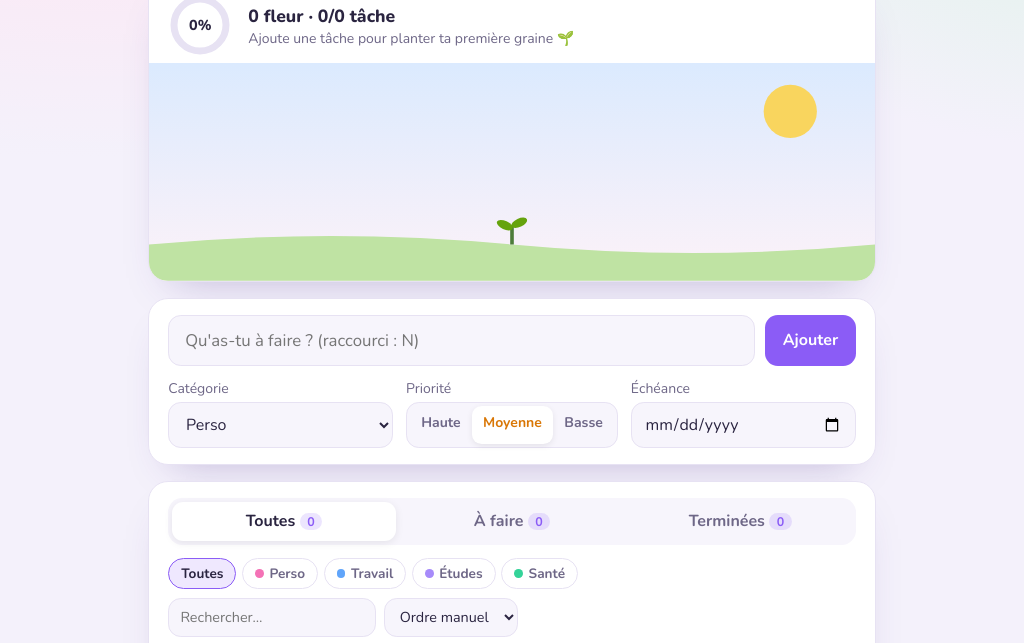
Test case: Bloom app › edits a task
Type "Ancien titre" into the field named "Nouvelle tâche" at (462, 340), box [168,315,756,366]
Then press Enter
(page scrolled)
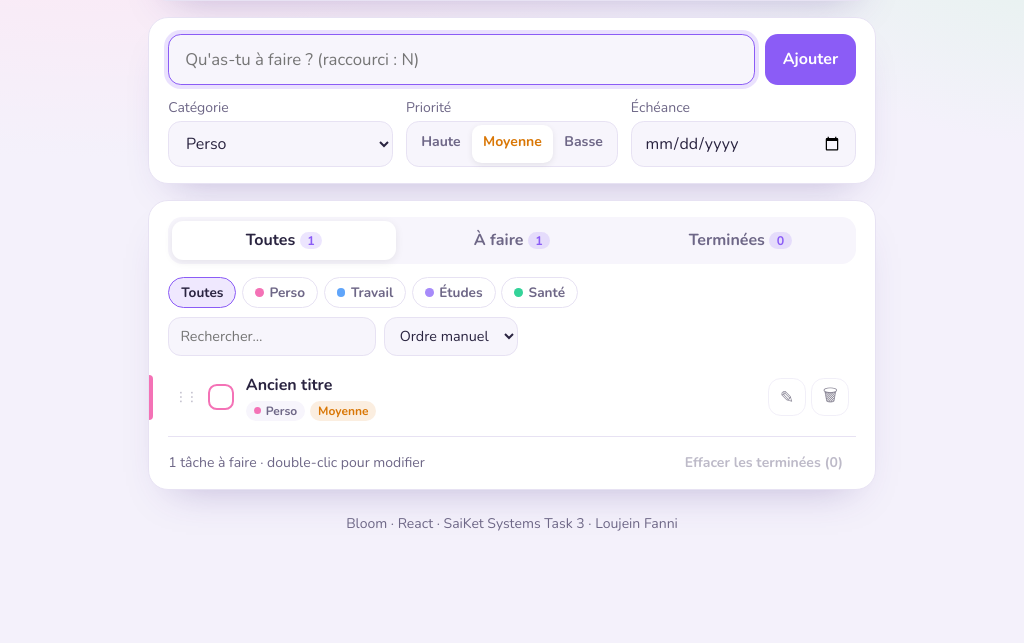
Click the button named "Modifier « Ancien titre »" at (787, 397), box [768,378,806,416]
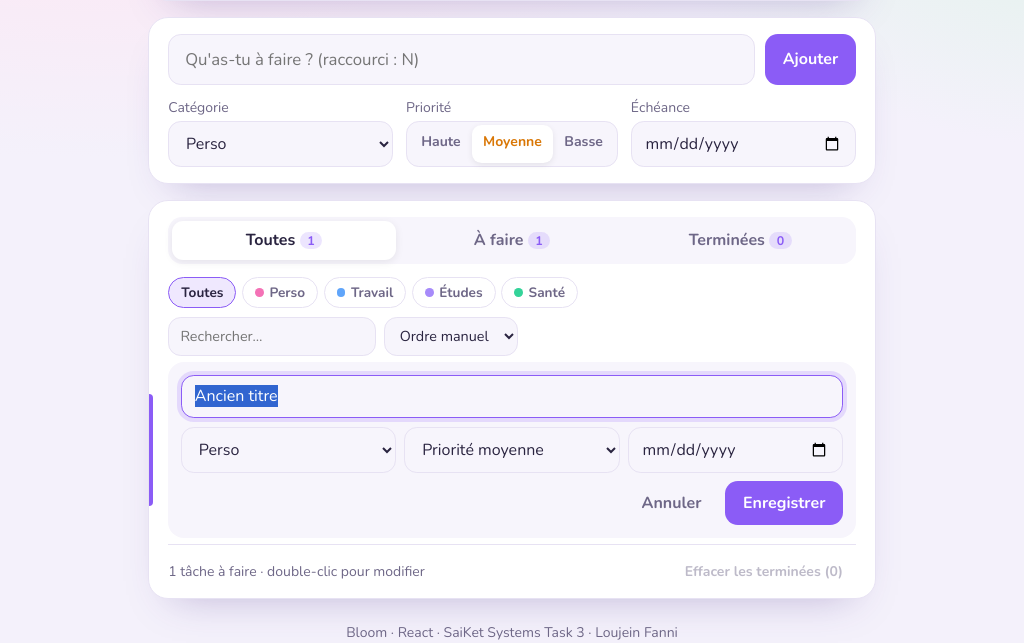
Replace the text in the field named "Modifier la tâche" with "Nouveau titre" at (512, 396), box [181,375,843,418]
Then press Enter
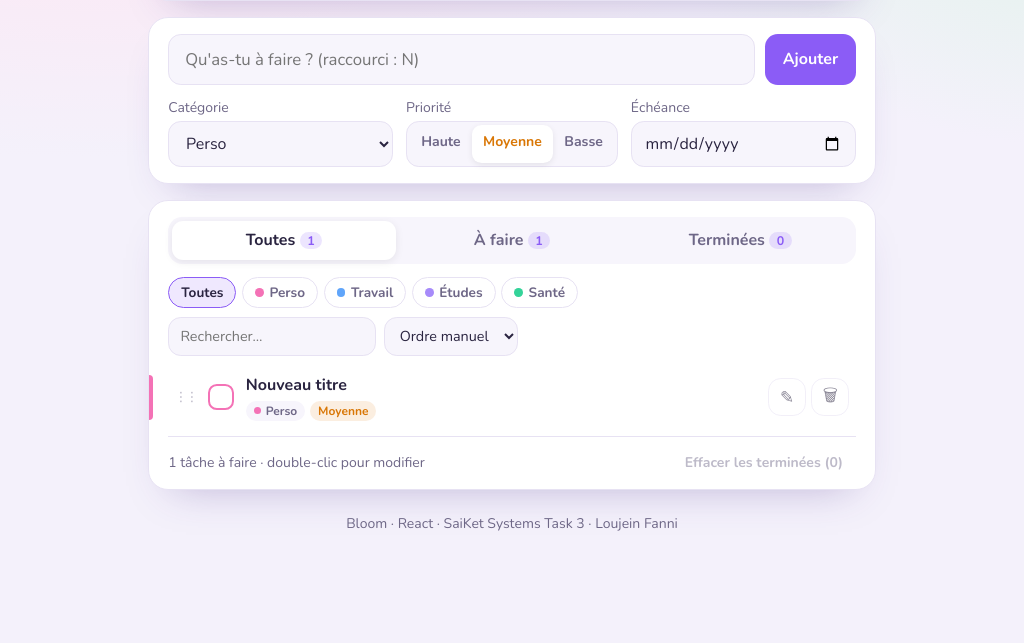
Expected: the text "Ancien titre" is not shown
Expected: the text "Nouveau titre" is shown, [246,374,347,396]
